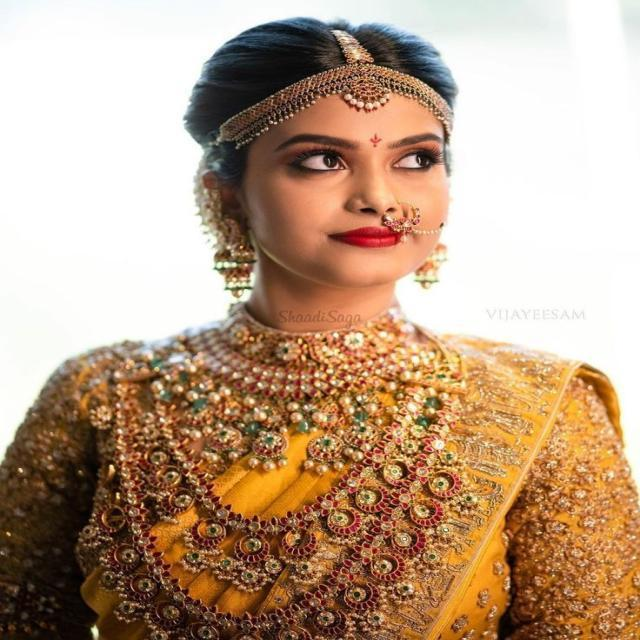Earring: (192, 168, 268, 308), (412, 234, 453, 296)
